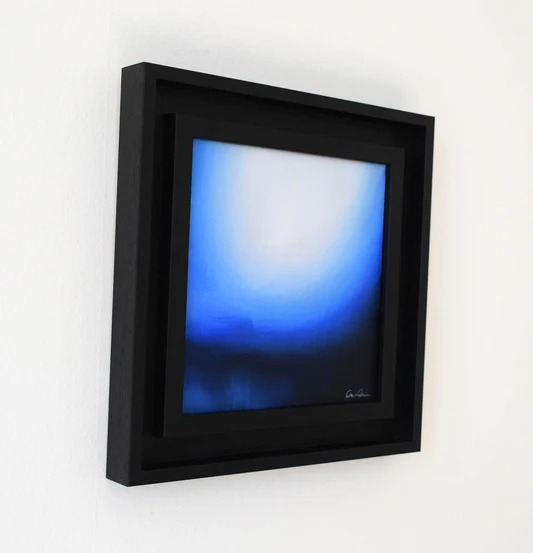painting: (105, 60, 437, 487)
